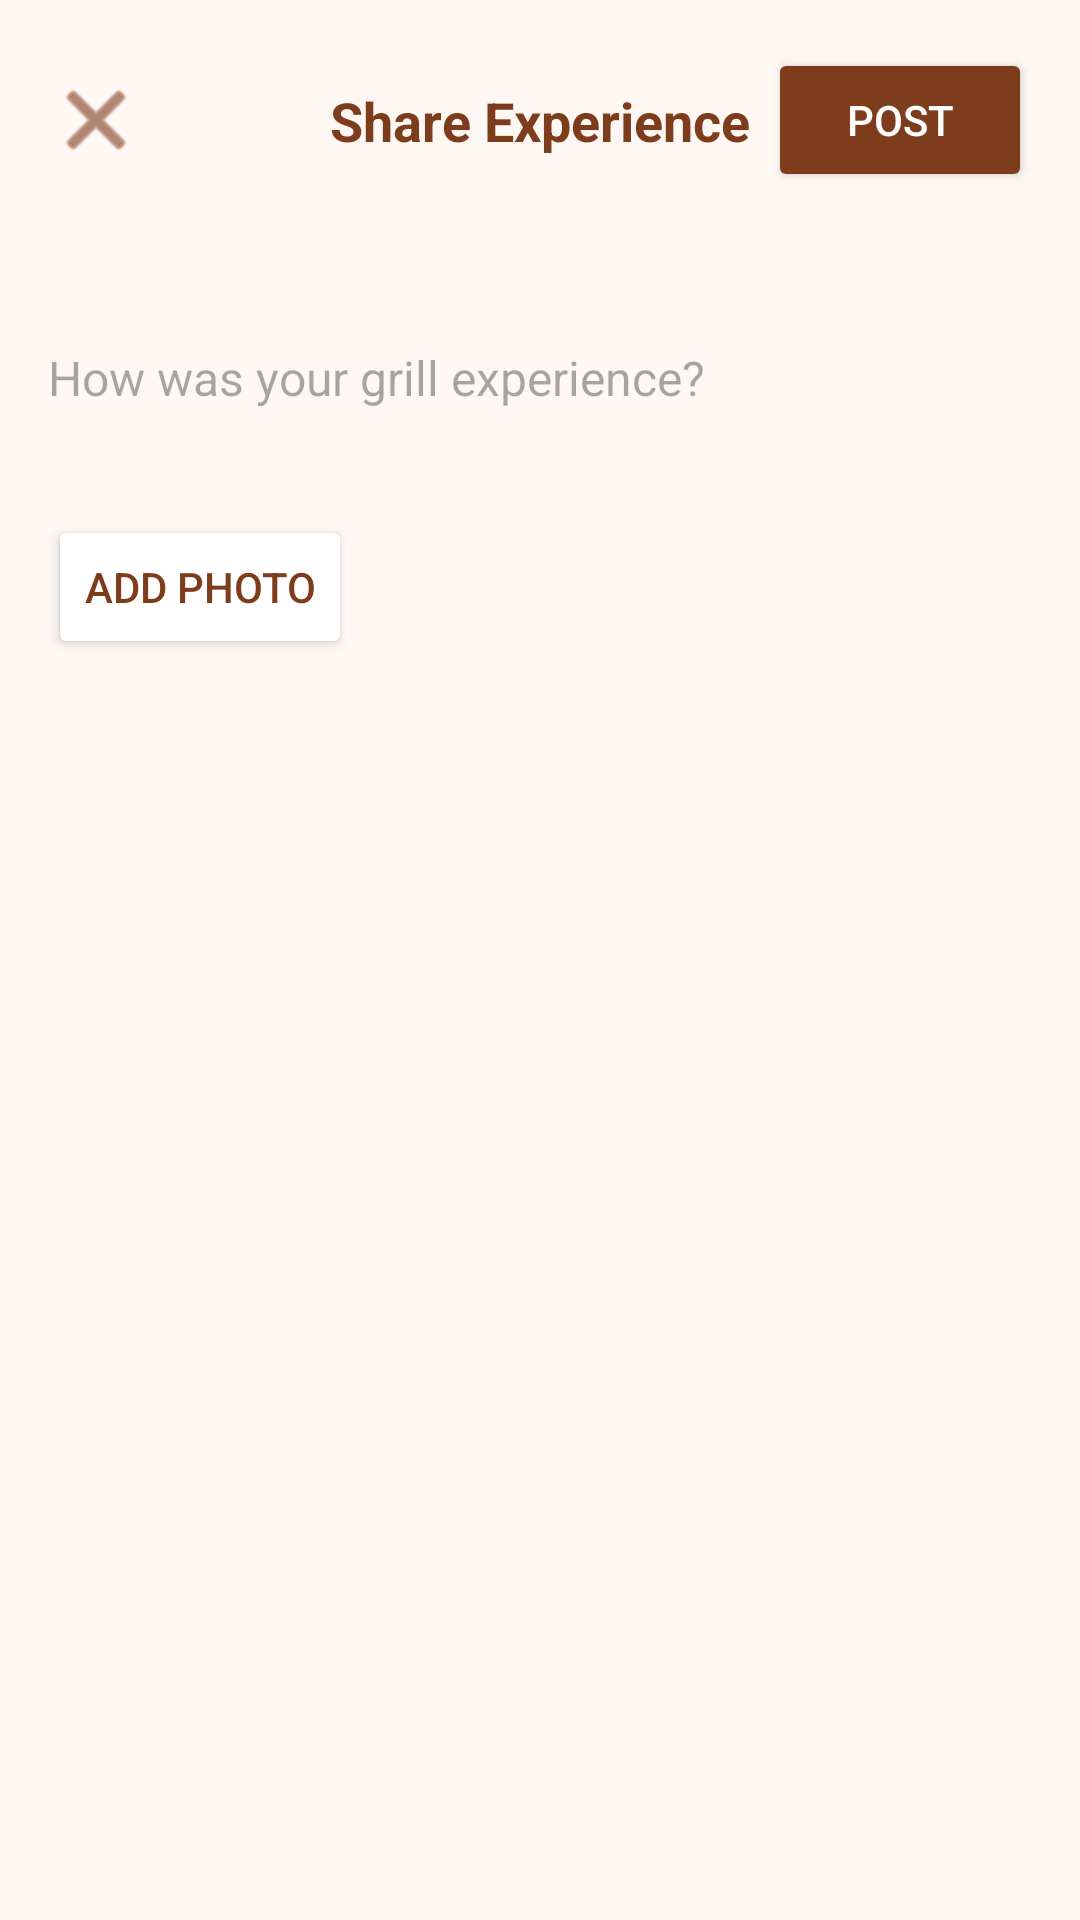

Named icons in this screenshot (1080 x 1920) and their centers, (x,y):
close clear cancel: (96,120)
